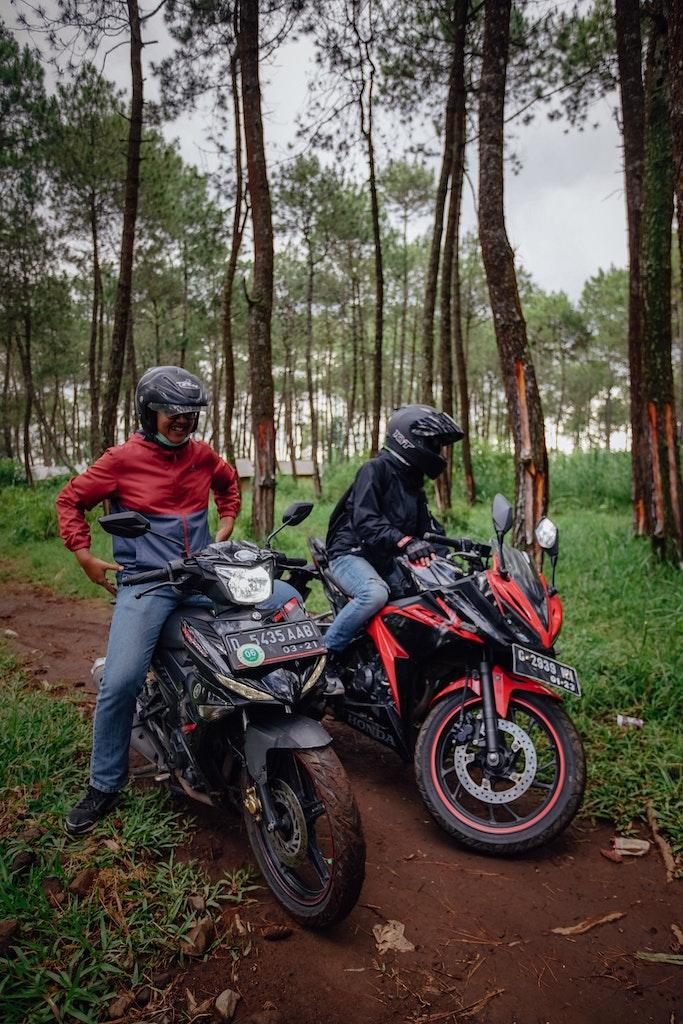helmet: (383, 402, 466, 481), (135, 364, 209, 448)
